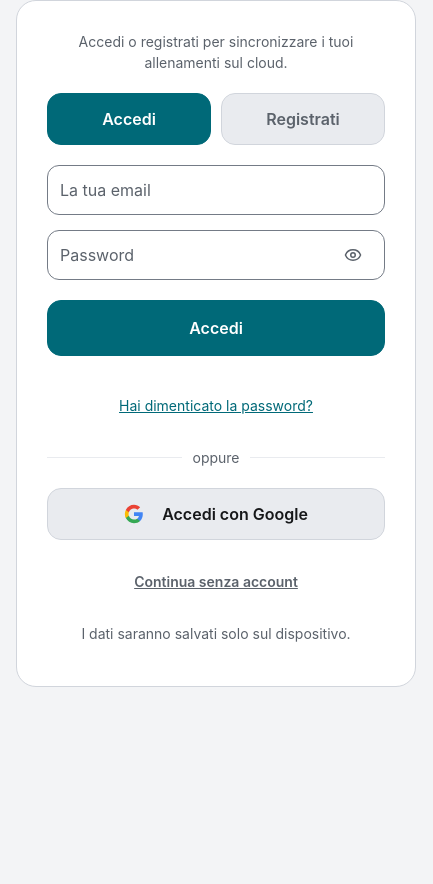
Test: LoginBox guest Google authentication › shows unmet password requirements immediately and rejects weak registration
The width and height of the screenshot is (433, 884).
Click the button "Registrati".
click(303, 119)  # box x1=221 y1=93 x2=385 y2=145
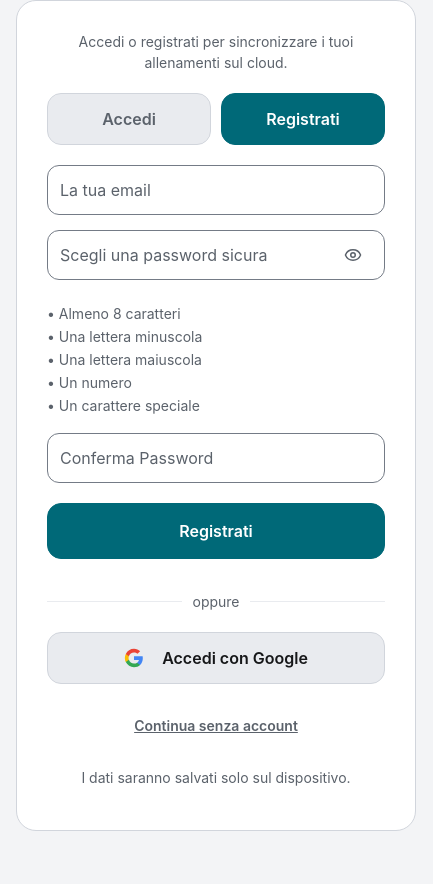
Type "new@example.com" into the field labelled "email".
click(216, 190); type("new@example.com")  # box x1=47 y1=165 x2=385 y2=215
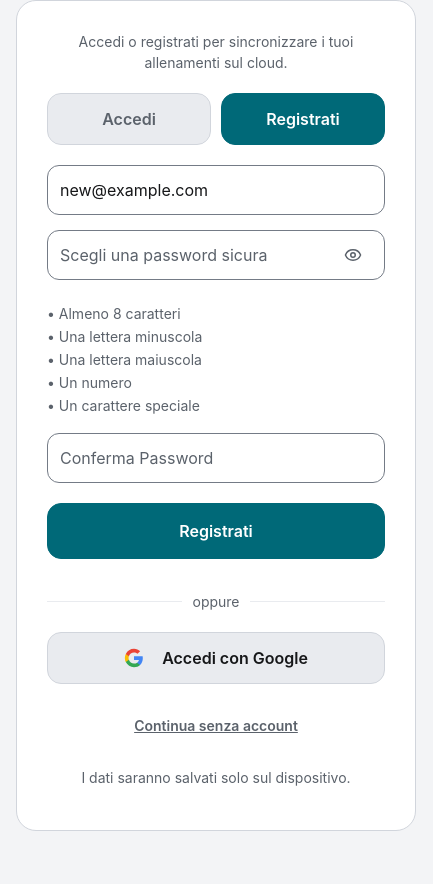
Type "caccapuou" into the password field labelled "password".
click(216, 255); type("caccapuou")  # box x1=47 y1=230 x2=385 y2=280
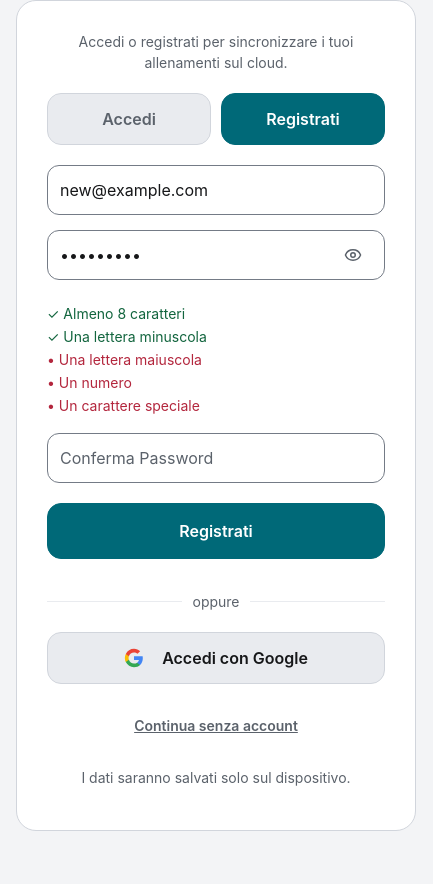
Type "caccapuou" into the password field labelled "Conferma Password".
click(216, 458); type("caccapuou")  # box x1=47 y1=433 x2=385 y2=483
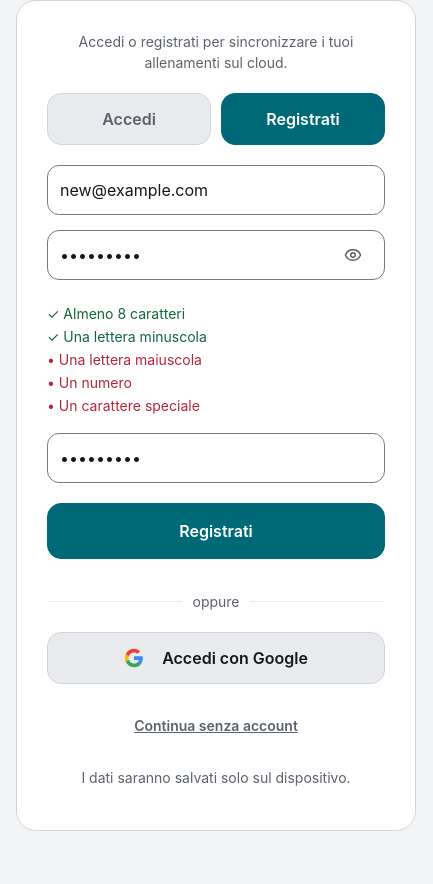
Now the list item "• Una lettera maiuscola" has attribute data-status="missing", box x1=47 y1=351 x2=202 y2=368
Click the button "Registrati" below "Un carattere speciale".
click(216, 531)  # box x1=47 y1=503 x2=385 y2=559
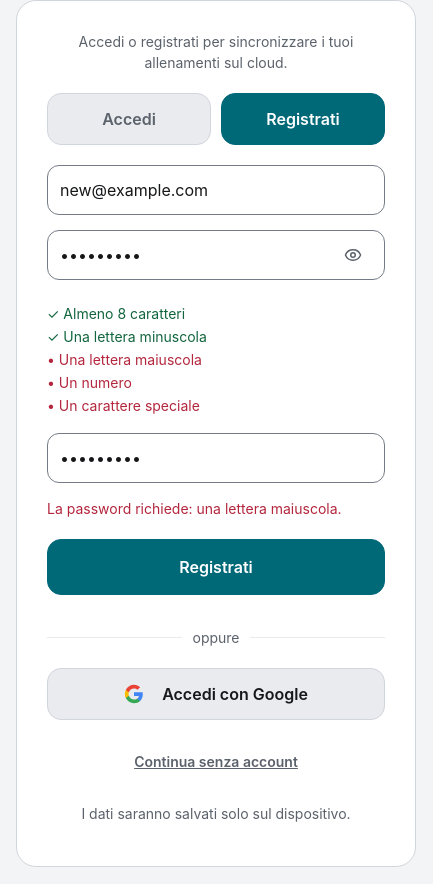
Expected: the button "Registrati" below "Un carattere speciale" is enabled, x1=47 y1=539 x2=385 y2=595
Now the message shows "maiuscola", box x1=47 y1=500 x2=342 y2=517
